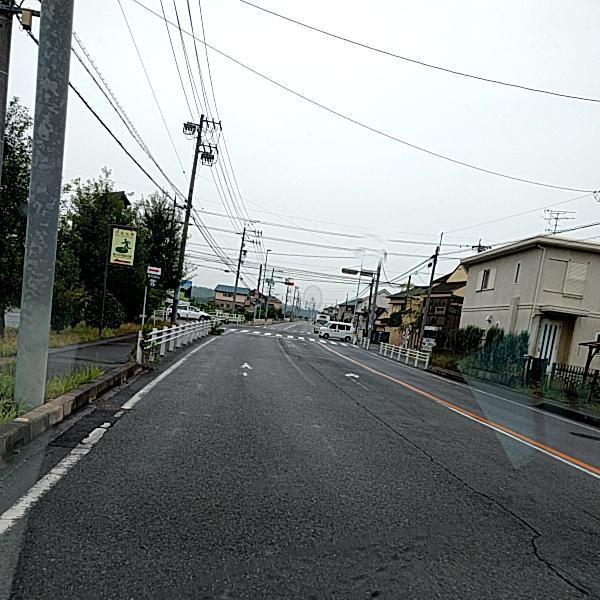D44: (0, 348, 199, 534)
